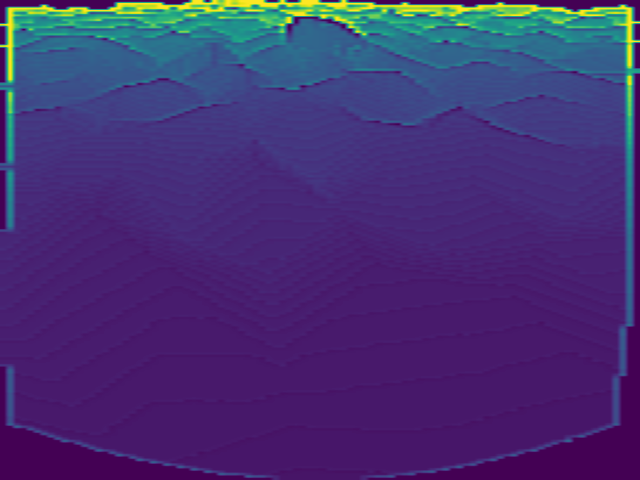car_0198: (286, 15, 364, 48)
